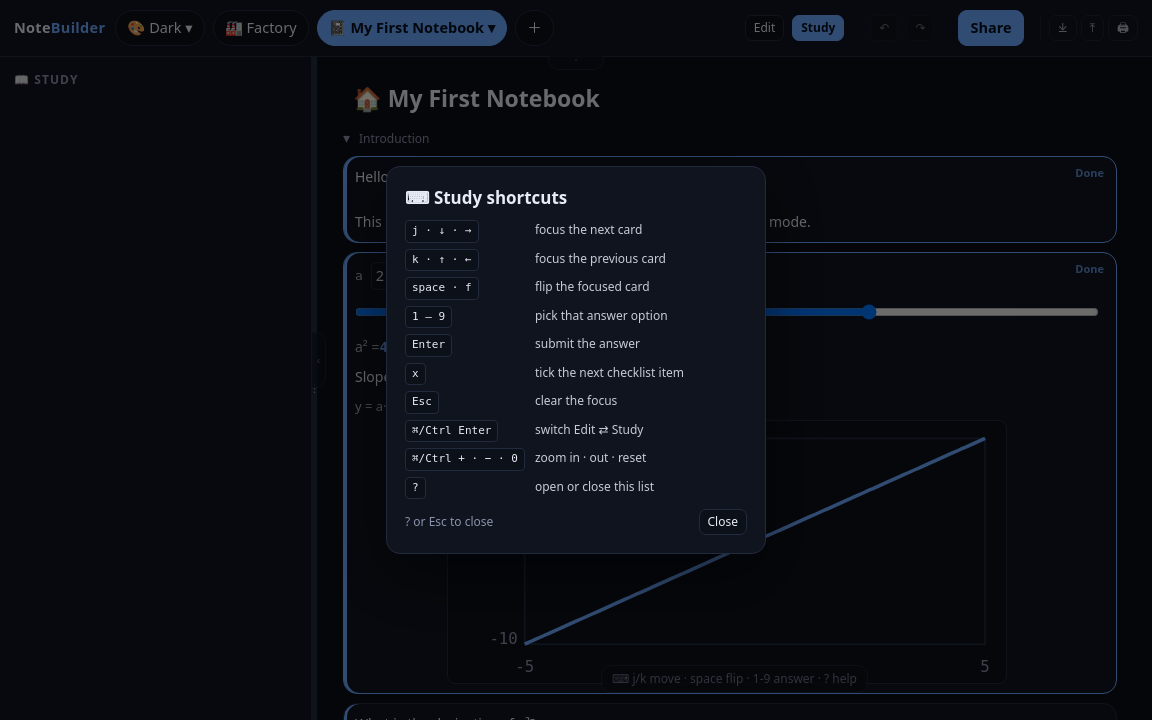
Test: ShortcutHelp — modal to focus, mounted for real in App › a backdrop click closes it and hands the shell back
Click the element with class "kb-modal".
click(69, 360)  # box x1=0 y1=0 x2=1151 y2=719
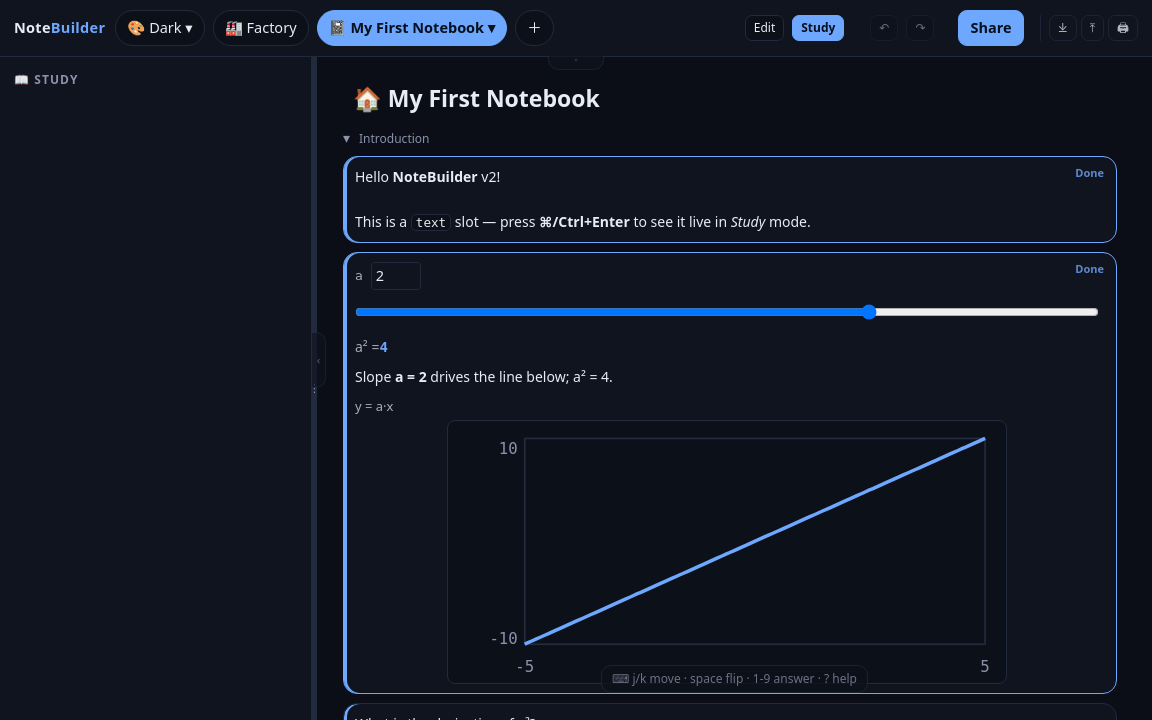
expect the element with class "kb-modal" is gone: met
